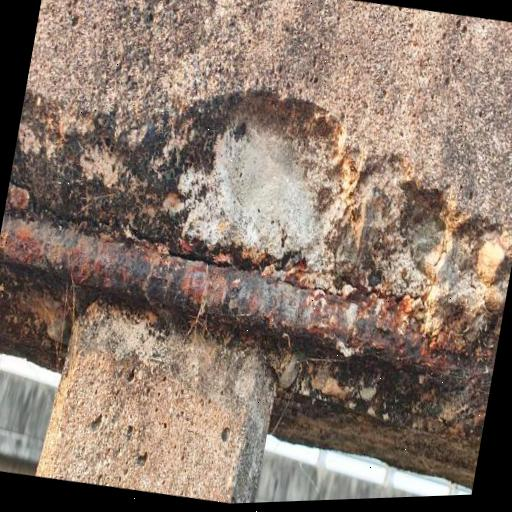exposed_rebar: (0, 216, 469, 375)
